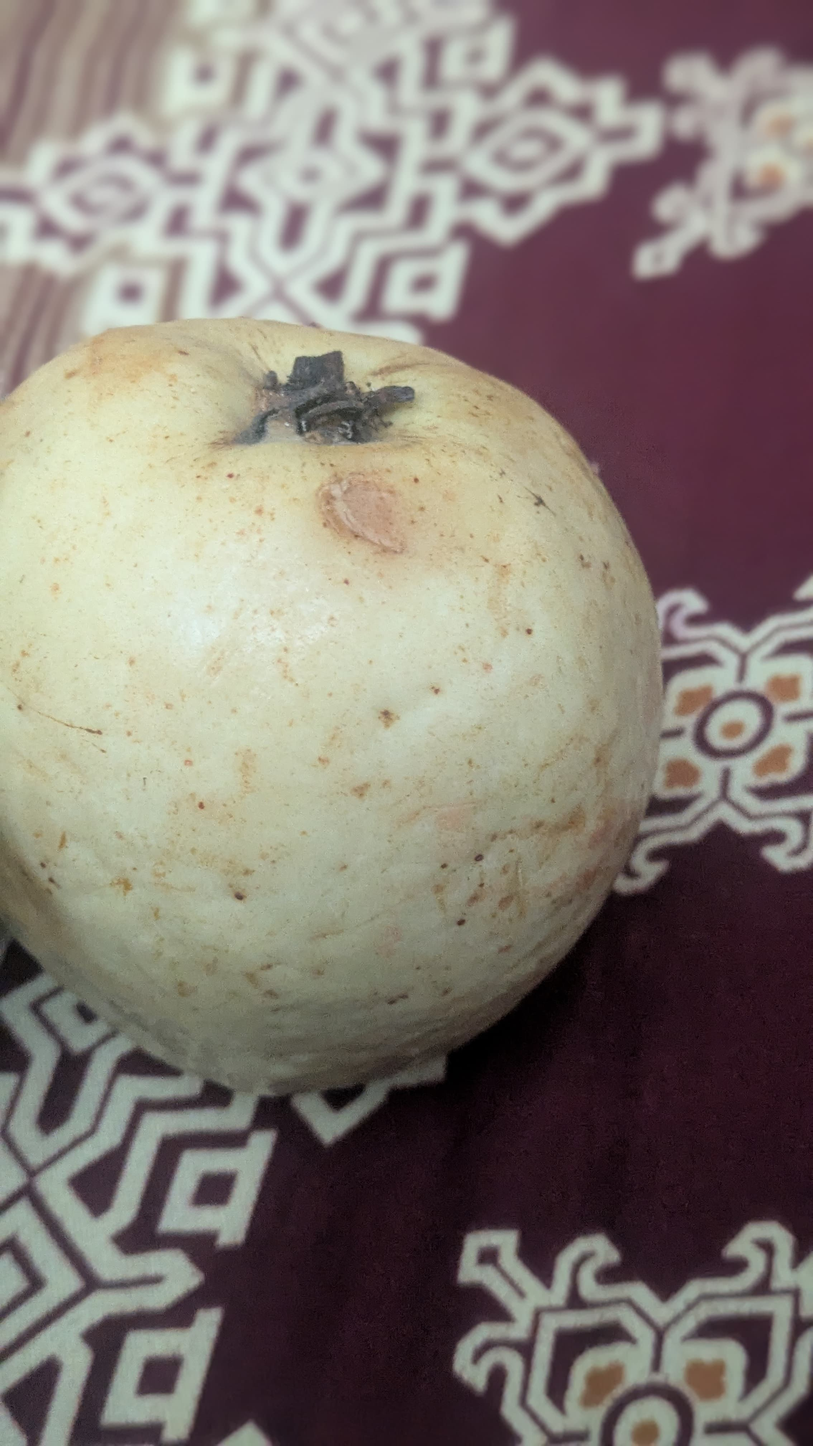guava: (123, 210, 793, 1257)
